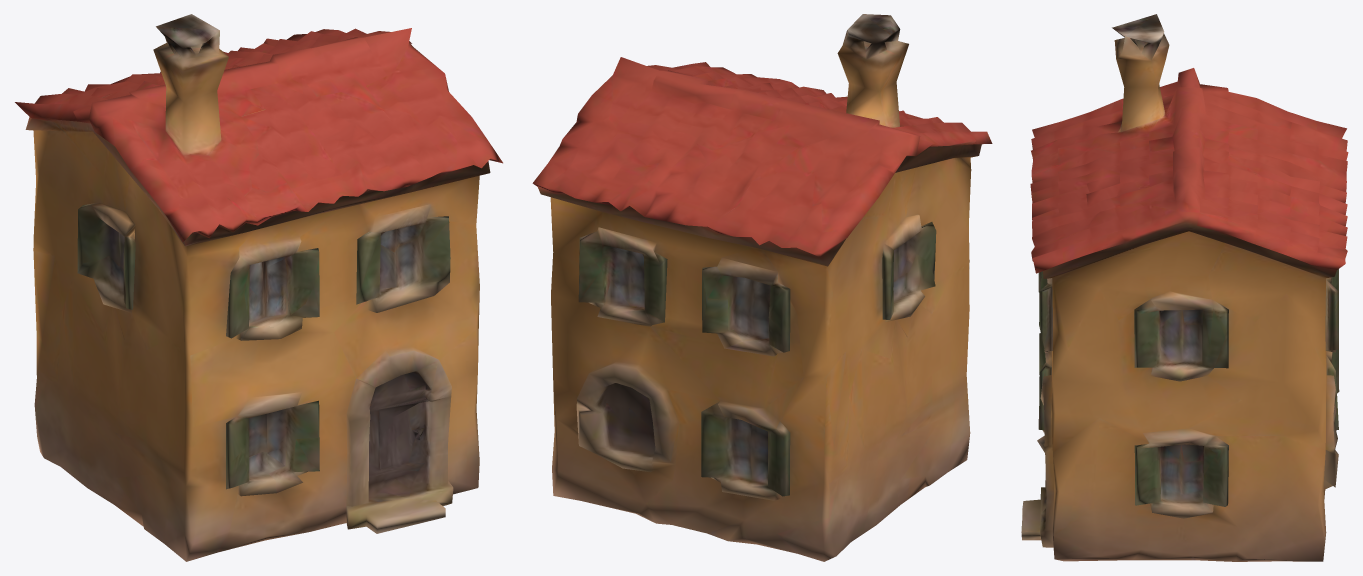
File: house_italian.glb
3 renders of one model, left to right at view 1: azimuth 30°, elevation 25°; view 2: azimuth 150°, elevation 25°; view 3: azimuth 270°, elevation 25°, orthographic. The views are drawn at different scales.
Visible parts, largest first — view 1: tripo_node_c0eac007-4ce4-4af3-9bb9-1494aa1ed47c; view 2: tripo_node_c0eac007-4ce4-4af3-9bb9-1494aa1ed47c; view 3: tripo_node_c0eac007-4ce4-4af3-9bb9-1494aa1ed47c.
Boxes of the visible parts, box(x1,y1,x2,y2) form: tripo_node_c0eac007-4ce4-4af3-9bb9-1494aa1ed47c: box(15, 14, 502, 561); tripo_node_c0eac007-4ce4-4af3-9bb9-1494aa1ed47c: box(532, 14, 992, 561); tripo_node_c0eac007-4ce4-4af3-9bb9-1494aa1ed47c: box(1021, 14, 1348, 561).
Bounding box in the file's own units: 0.681 × 0.9787 × 0.6664.
Materials: 1 (1 with a texture image).
